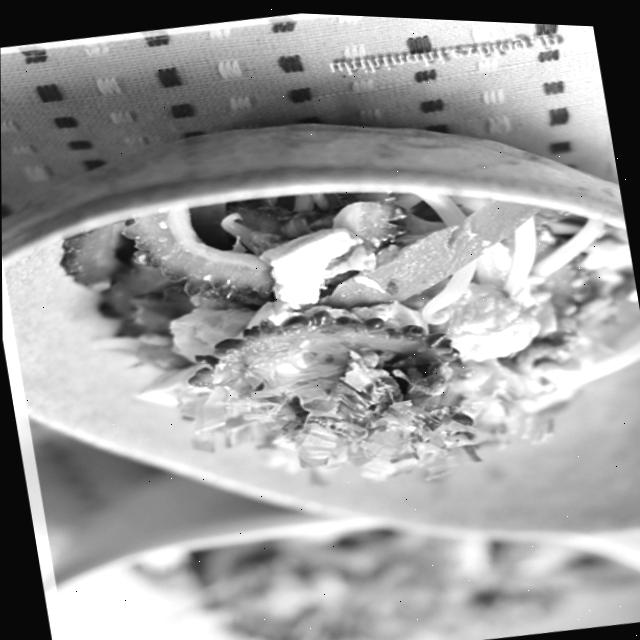熟制海鲜: (0, 33, 640, 612)
